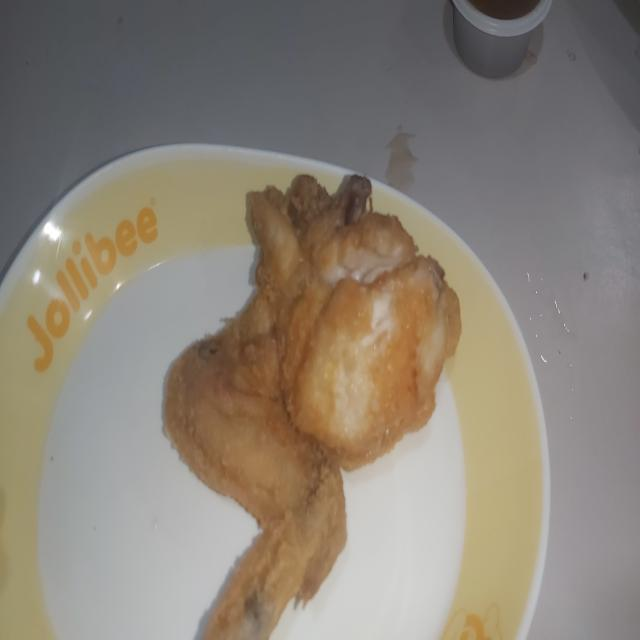Chicken -Fried Chicken-: (161, 156, 472, 635)
